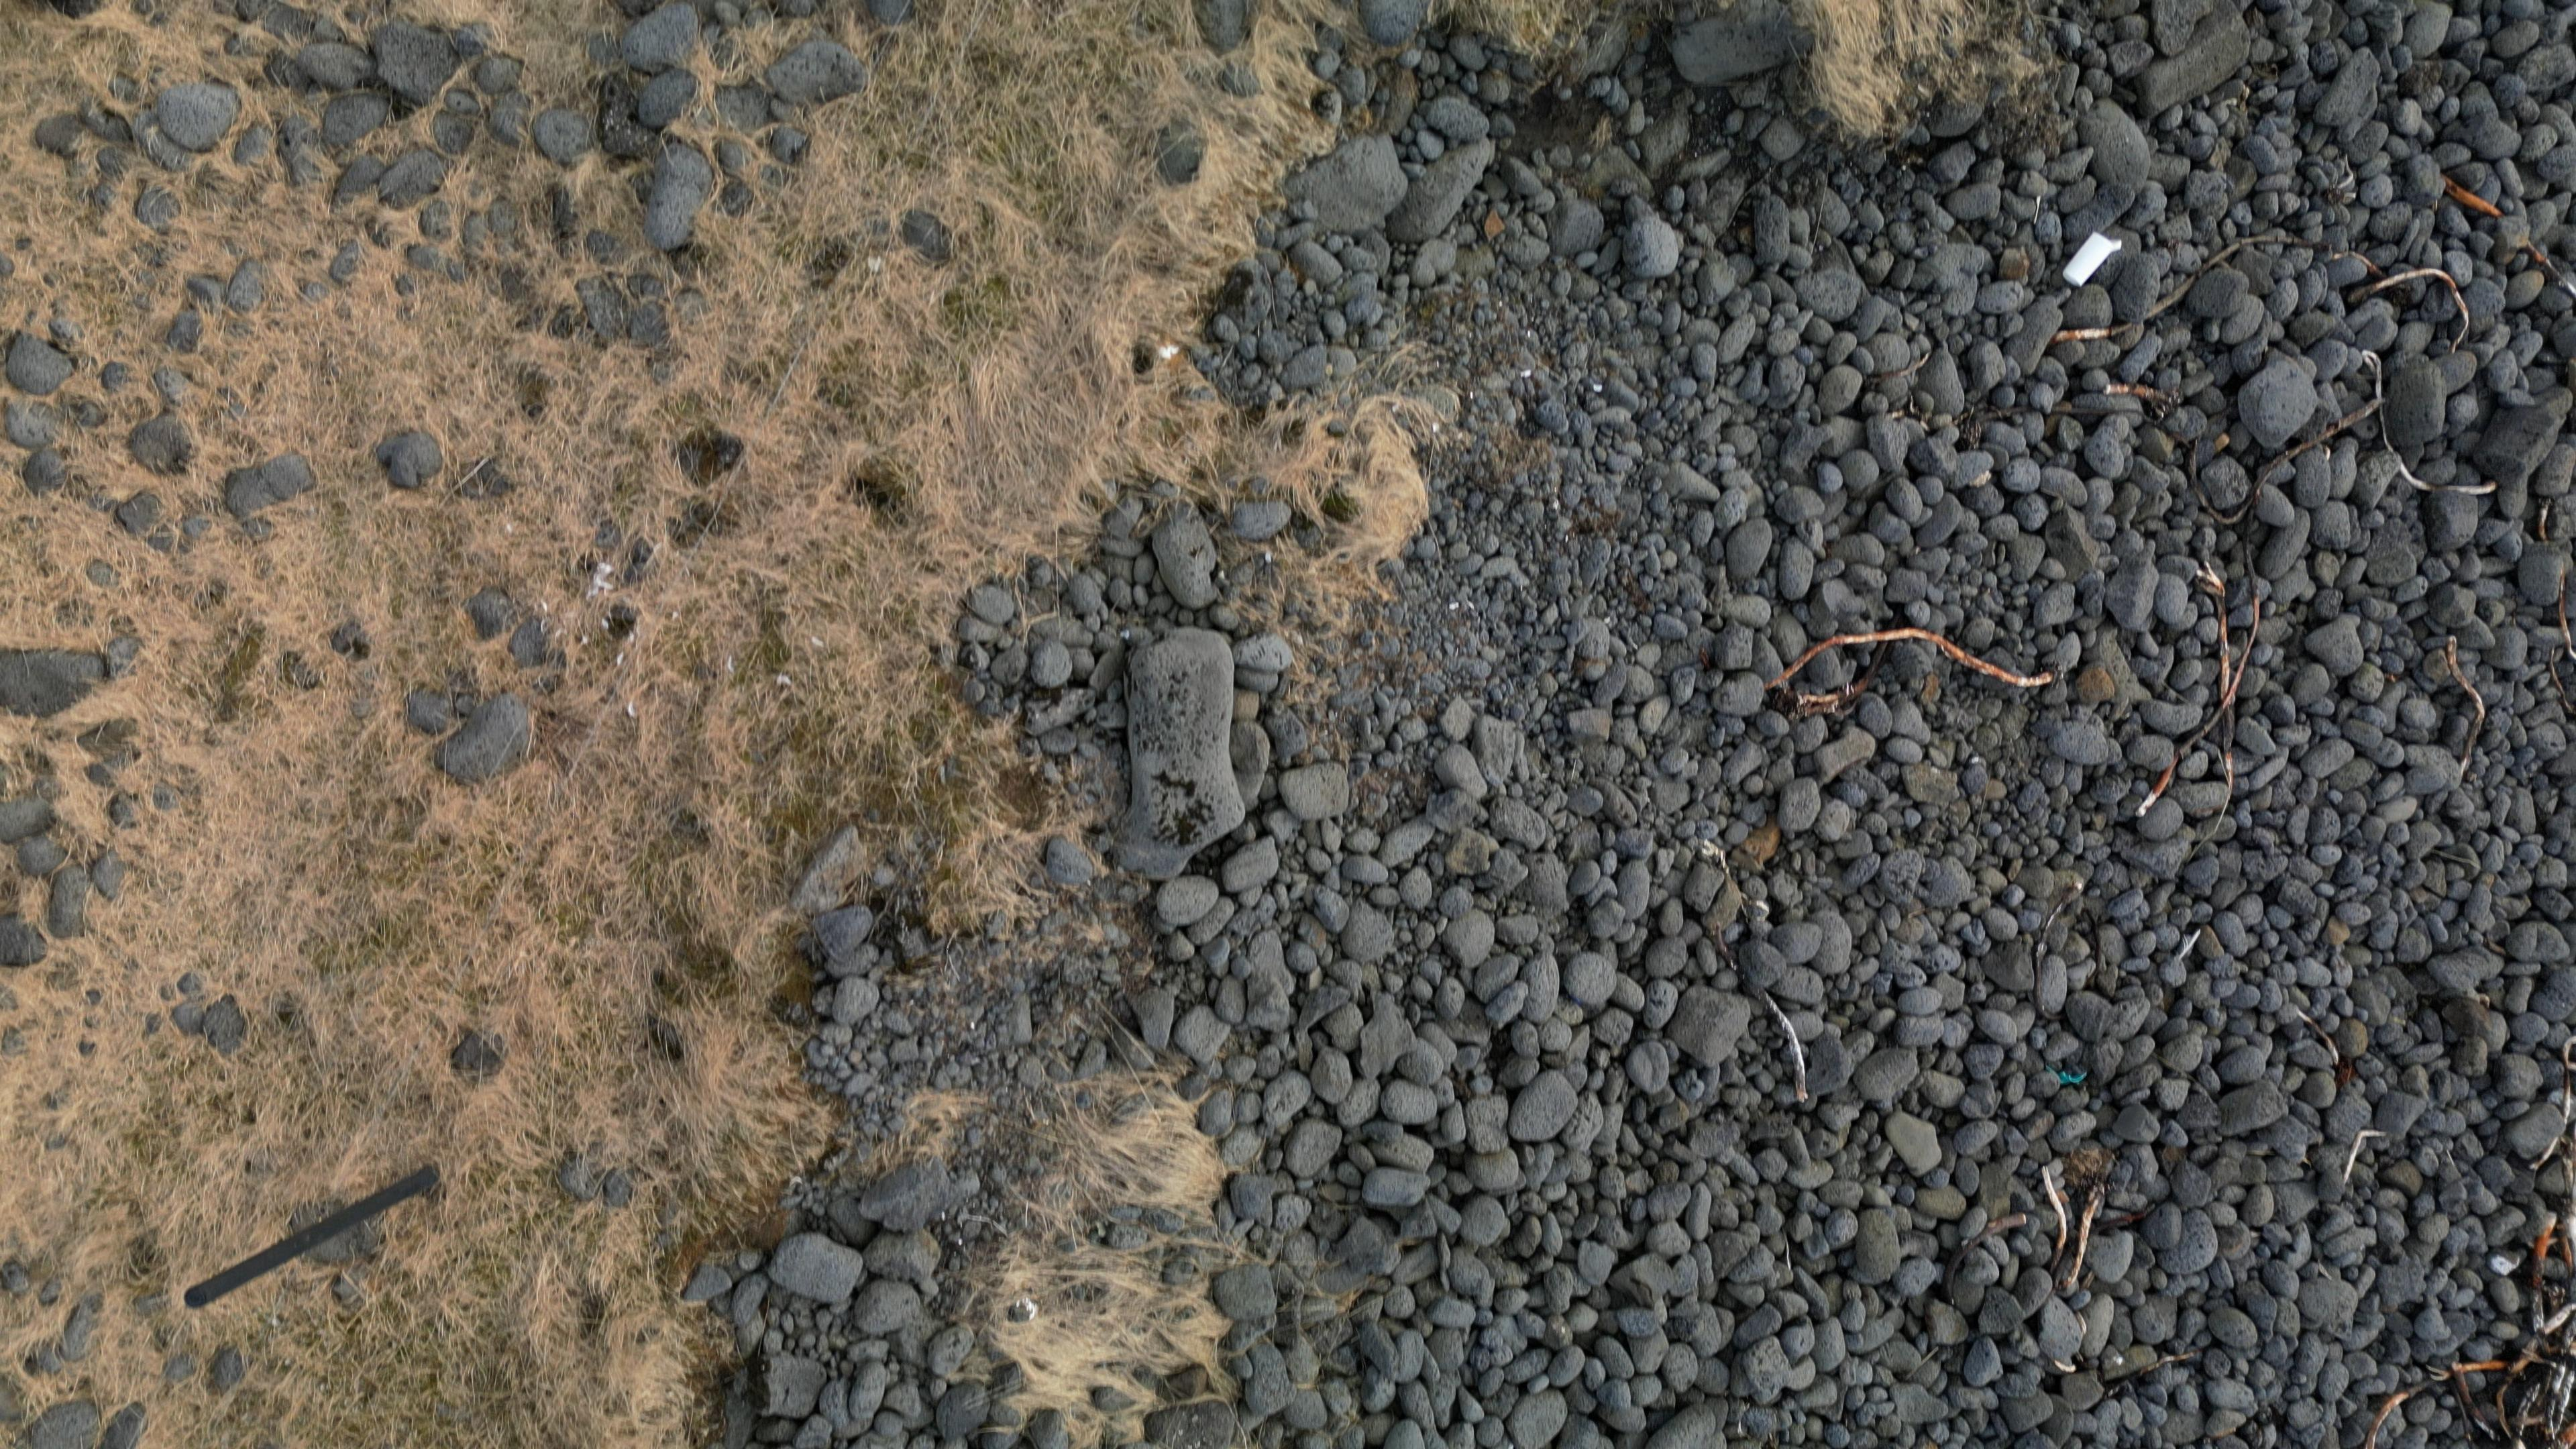trash: (2063, 231, 2123, 287)
